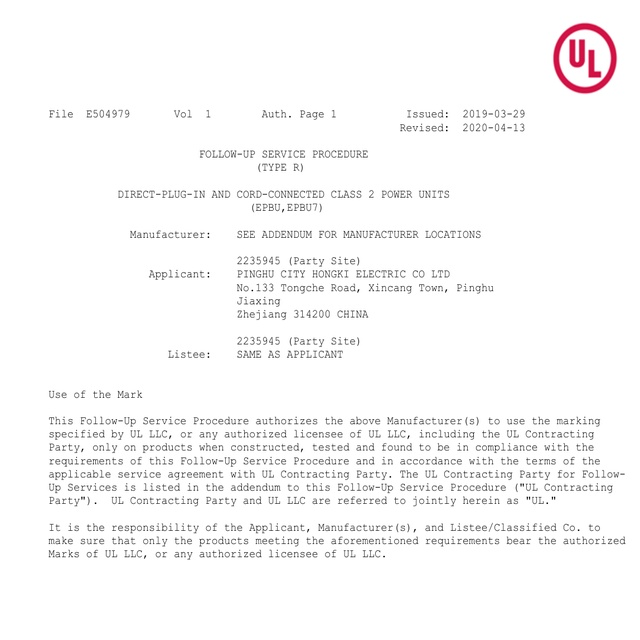ul: (553, 21, 618, 94)
